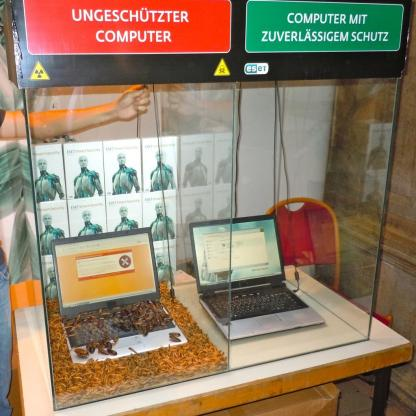board: (51, 227, 189, 364), (194, 206, 323, 350)
